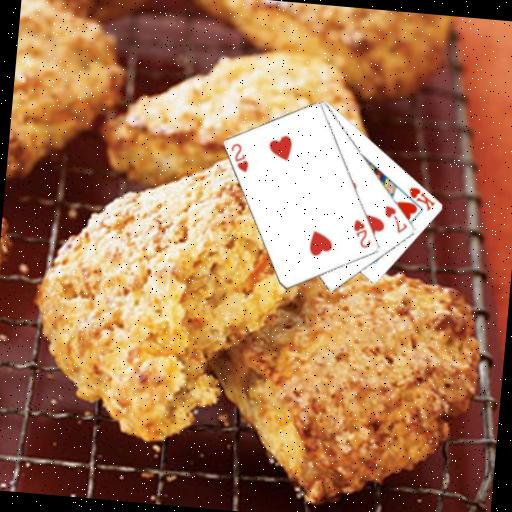2H: (227, 140, 253, 175), (349, 216, 375, 250)
7H: (381, 202, 412, 236)
KH: (404, 183, 438, 213)
